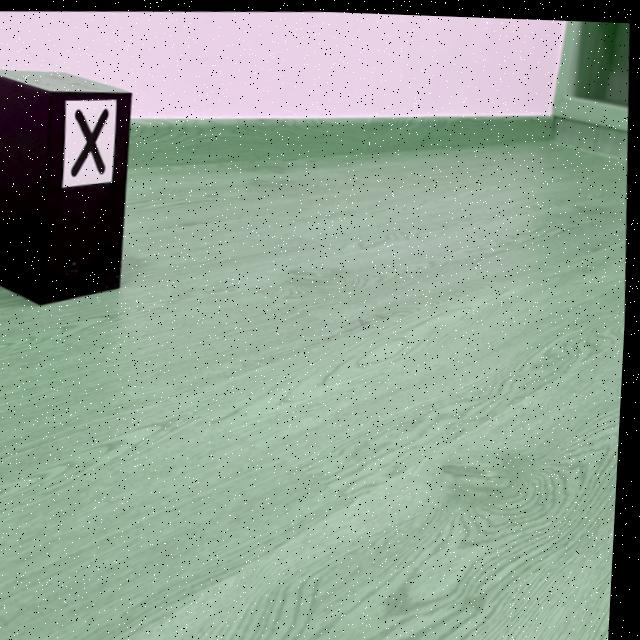X: (73, 107, 109, 176)
